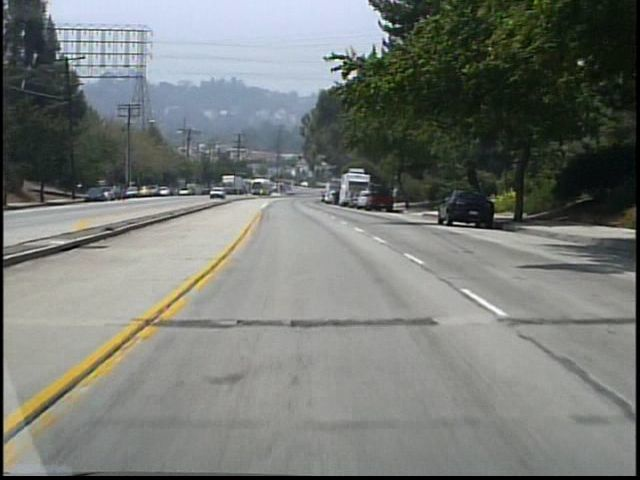person: (388, 183, 399, 209)
